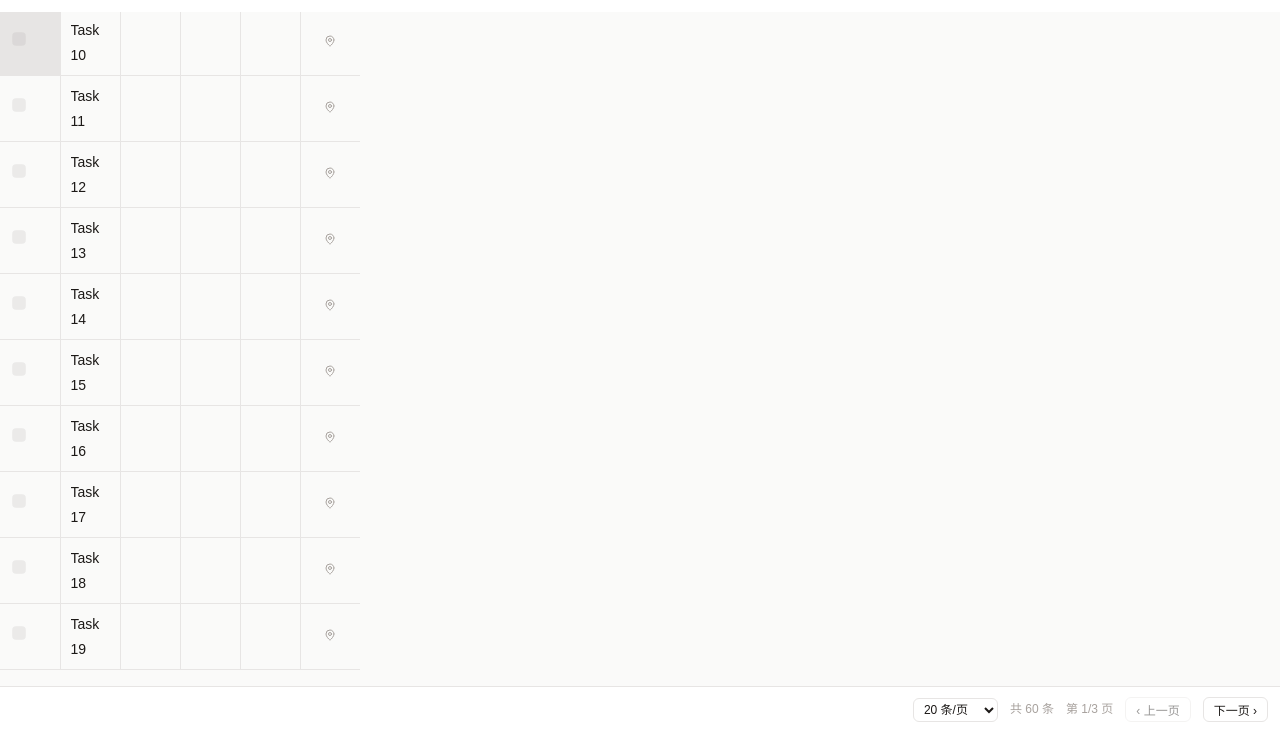
Test: TableView (generic, field-driven) › paginates across groups by flat record sequence (ADR-0024 D2)
Check: the text "B 组" is not shown
// 翻到第 2 页：A 组余 10 条 + B 组前 10 条（跨组连续）
Click the button with test id "page-next".
click(1235, 710)  # box [1203,697,1268,722]
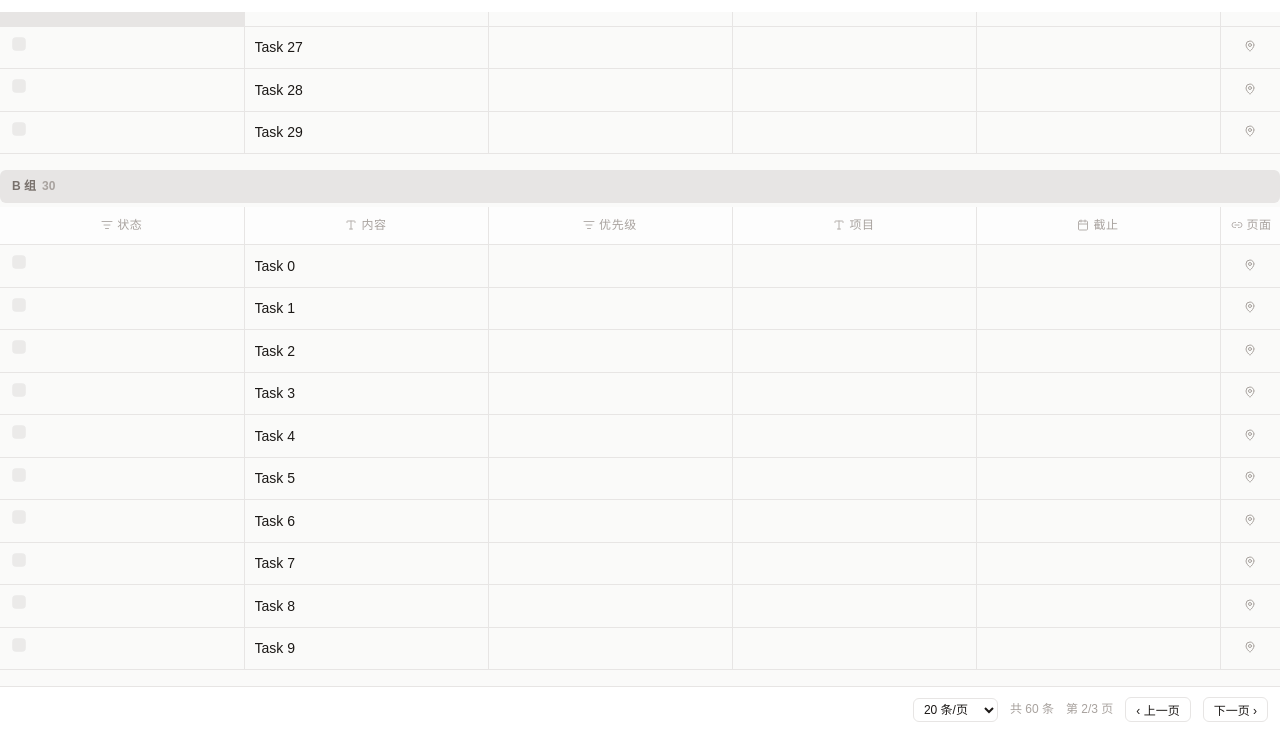
Check: the text "共 60 条" is shown, box [1010,699,1054,720]
Check: the text "B 组" is shown, box [12,176,36,197]
